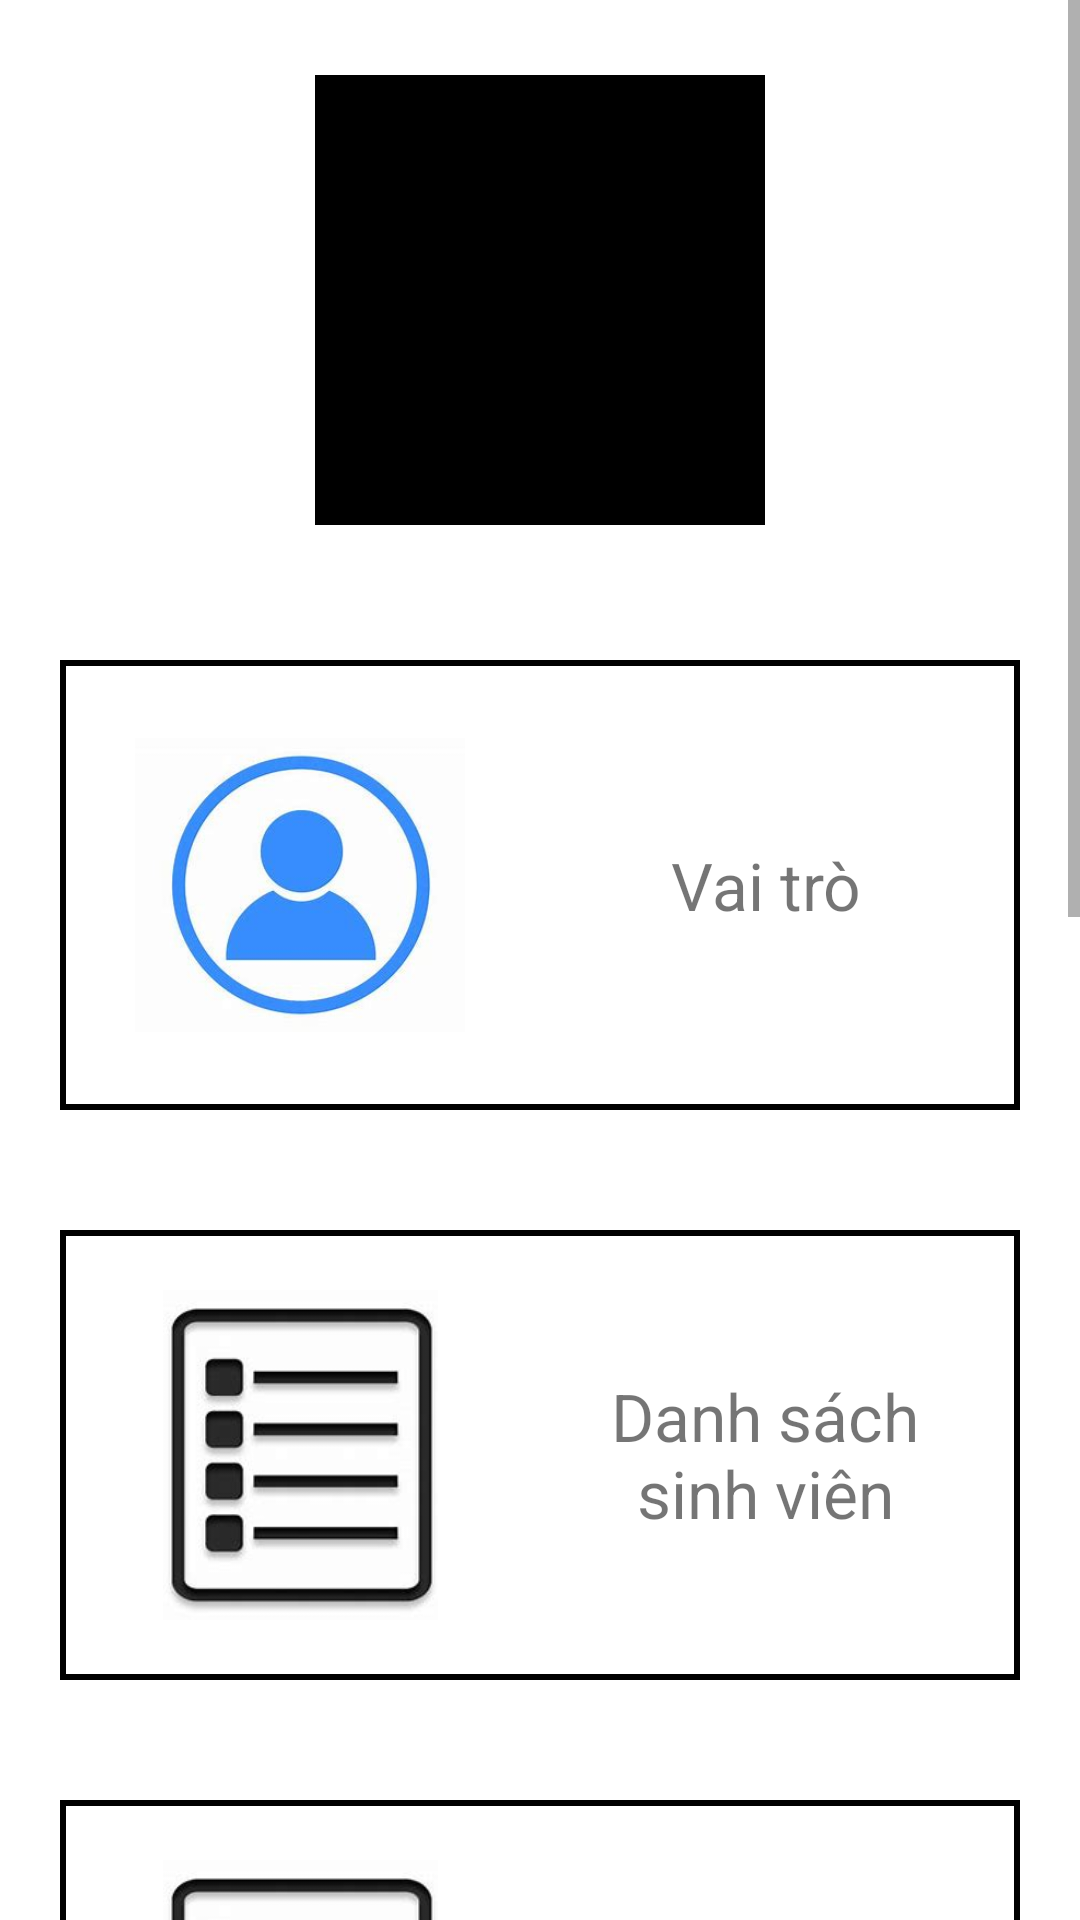

Named icons in this screenshot (1080x1920) and their centers, [x,y]:
role: [301,885]
